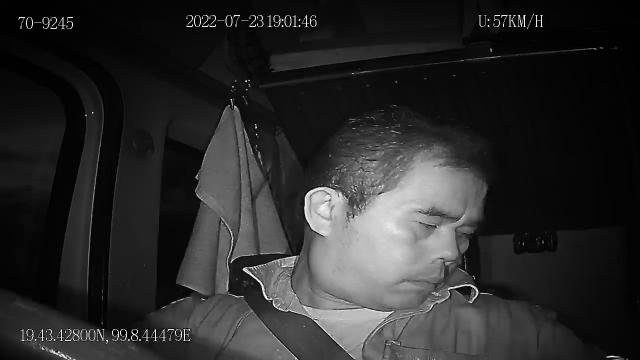Seatbelt: (243, 288, 357, 360)
